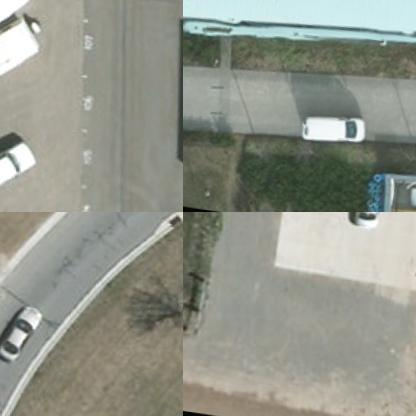camping car: (0, 0, 53, 118)
car: (306, 96, 366, 158), (0, 300, 45, 369), (401, 162, 415, 211), (353, 212, 385, 227)
pickup: (0, 125, 47, 211)
